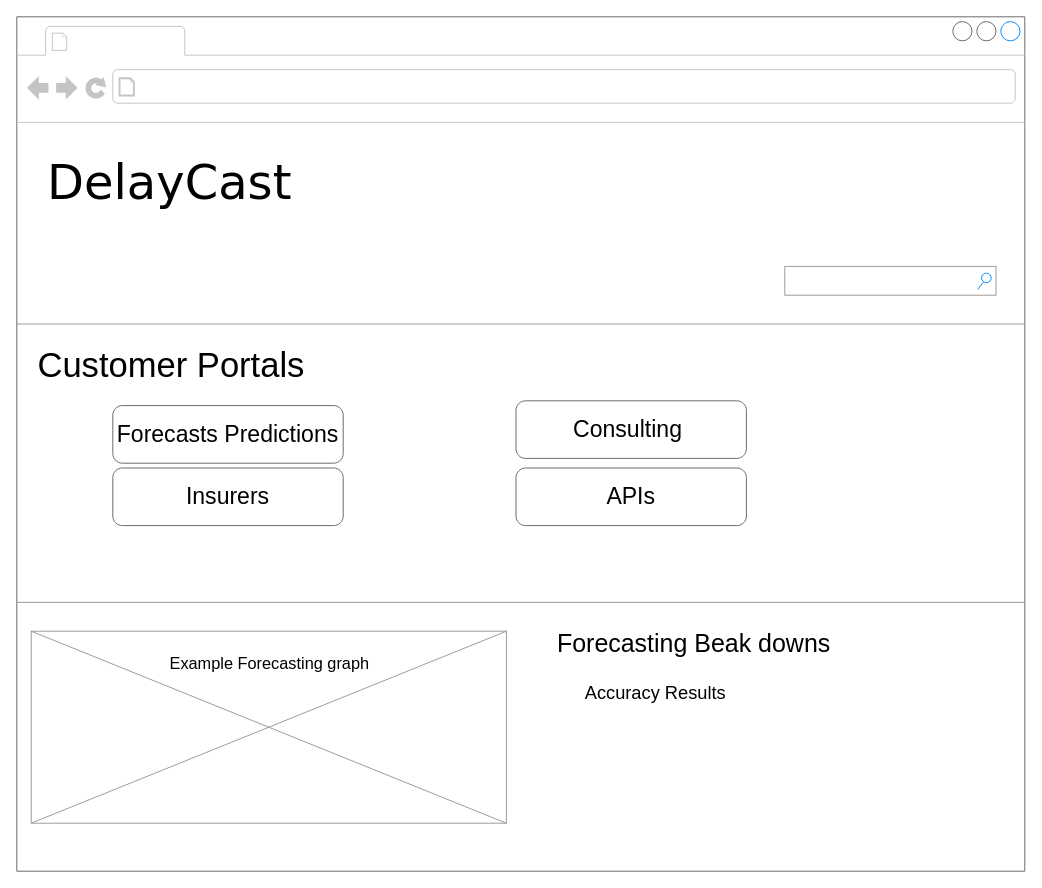
Some shapes in this 1042 by 888 pixel diagram are drawn without their labels. Each missing label, with the centre of its shape:
"https://www.default.com" goes at (x=261, y=86).
"Page 1" goes at (x=126, y=40).
"Search" goes at (x=890, y=280).
